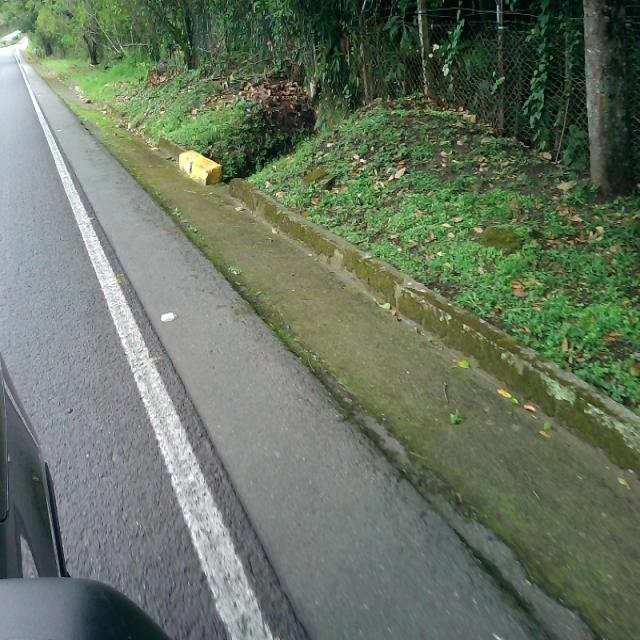DITCH: (2, 21, 638, 638), (12, 37, 634, 638), (1, 92, 639, 638)
